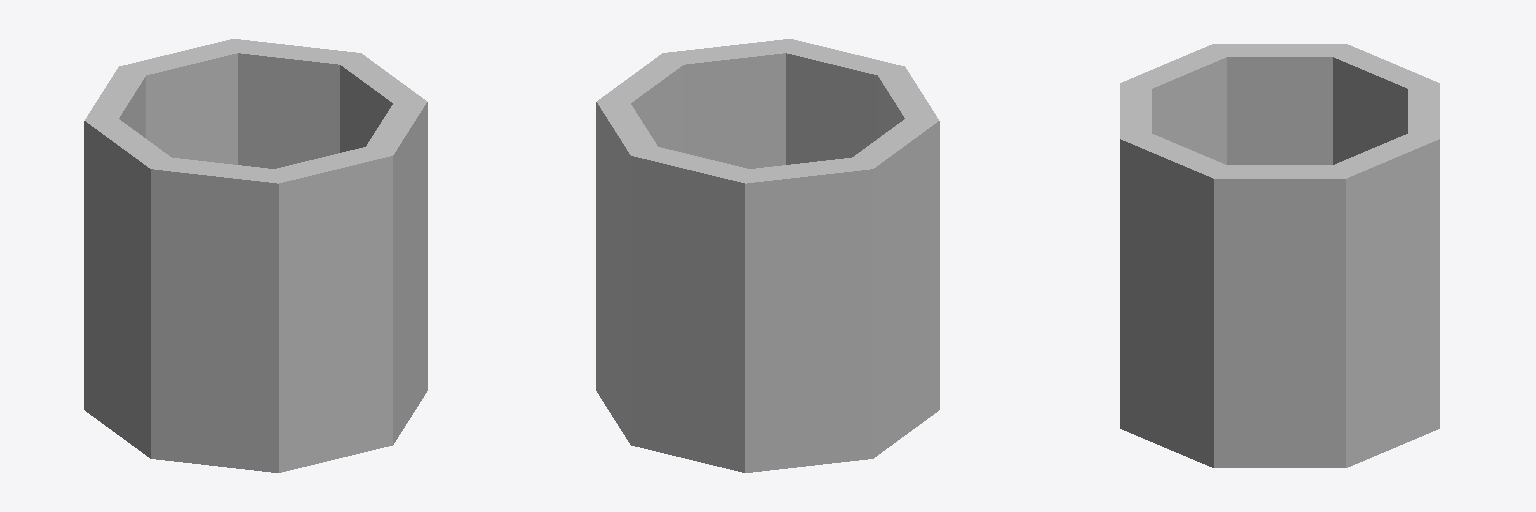
Rendered from pipe.obj.
3 renders of one model, left to right at view 1: azimuth 30°, elevation 25°; view 2: azimuth 150°, elevation 25°; view 3: azimuth 270°, elevation 25°, orthographic.
Visible parts, largest first — view 1: Cylinder; view 2: Cylinder; view 3: Cylinder.
Part boxes in pixels (left/top/right/bottom): Cylinder: left=84, top=39, right=427, bottom=472; Cylinder: left=596, top=39, right=939, bottom=472; Cylinder: left=1120, top=44, right=1439, bottom=467.
Bounding box in the file's own units: 1 × 1 × 1.